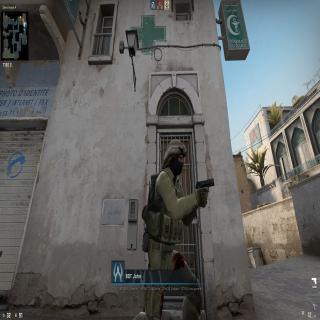CT-Head: (162, 134, 188, 179)
